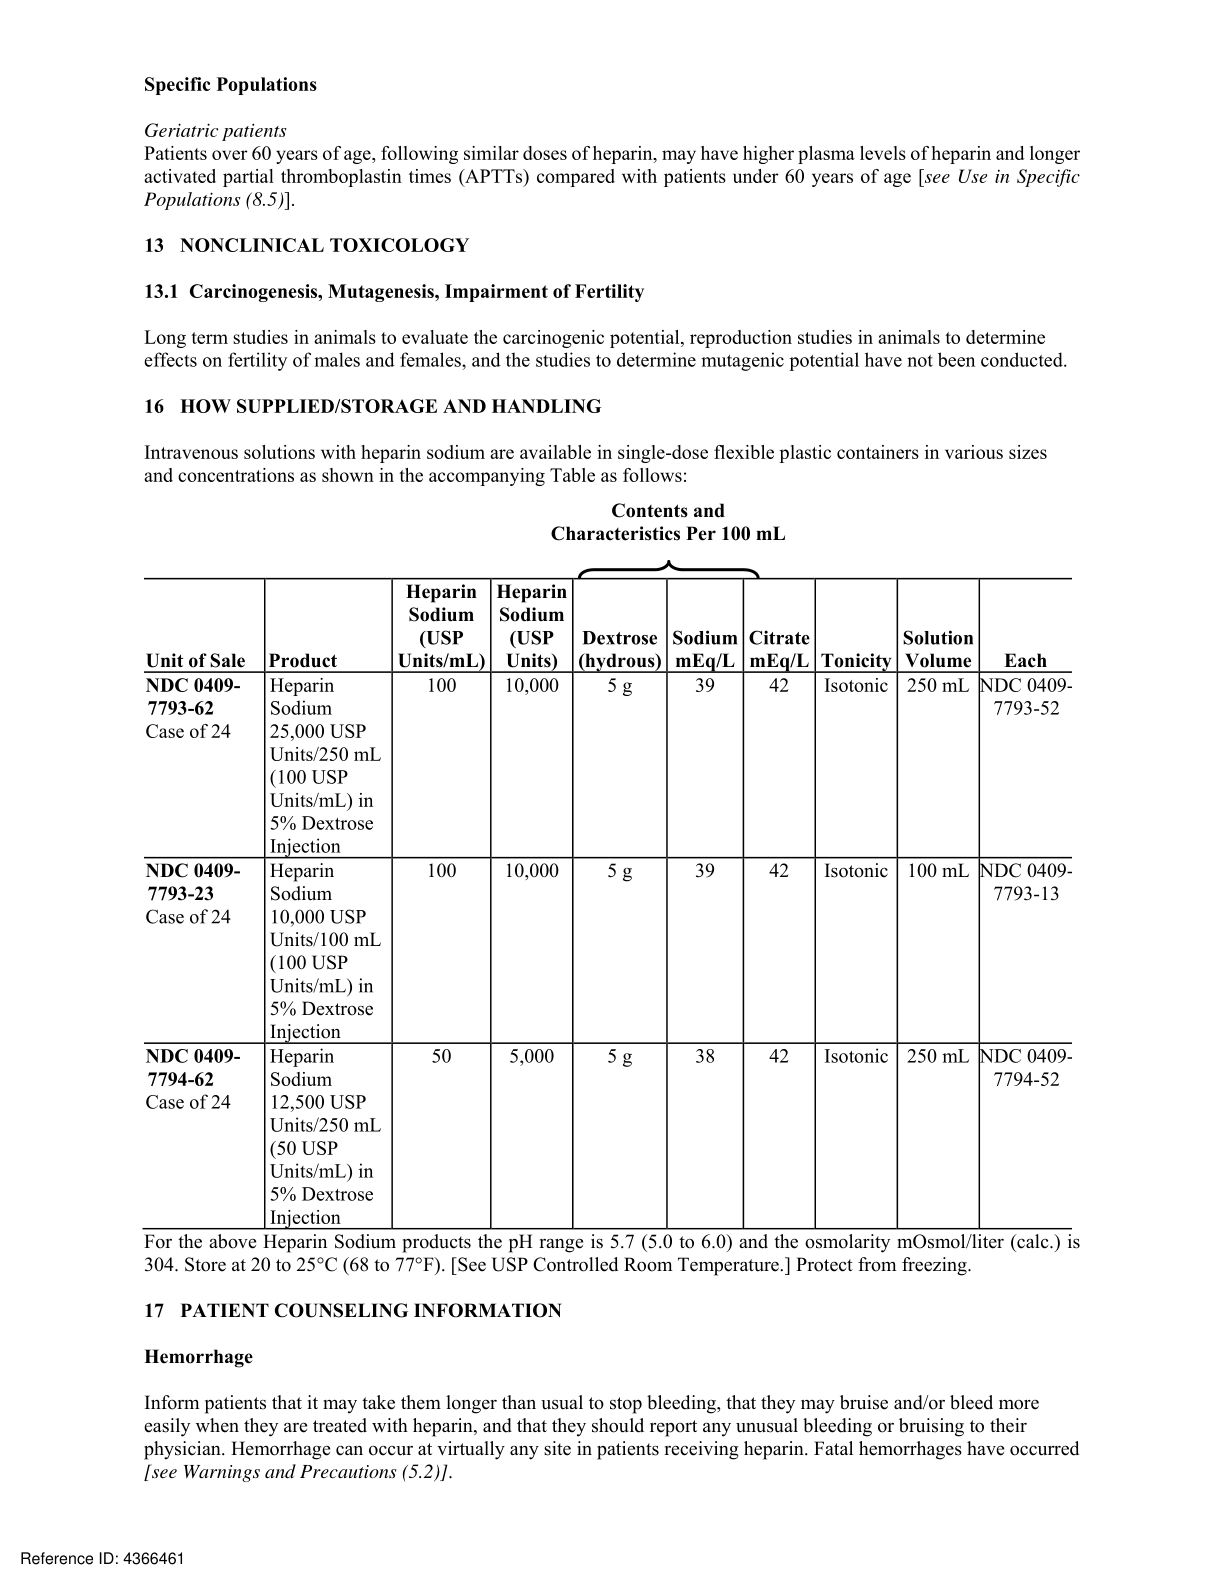partial_lined: (143, 576, 1074, 1230)
